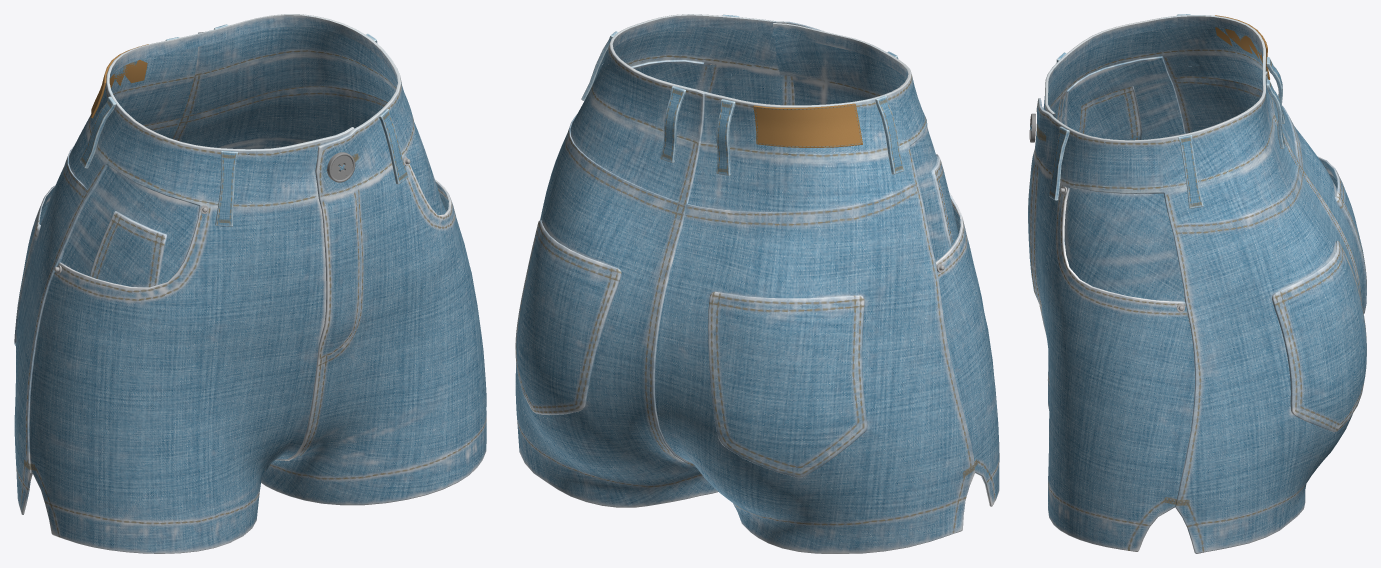
Rendered from female_short_jeans.glb.
3 renders of one model, left to right at view 1: azimuth 30°, elevation 25°; view 2: azimuth 150°, elevation 25°; view 3: azimuth 270°, elevation 25°, orthographic. The views are drawn at different scales.
Visible parts, largest first — view 1: Object_2; view 2: Object_2; view 3: Object_2.
Part boxes in pixels (<box>): Object_2: <box>14,14,486,553</box>; Object_2: <box>515,14,999,553</box>; Object_2: <box>1028,14,1366,553</box>.
Size of the model in its own units: 32.55 by 30.31 by 23.13.
1 material, 1 textured.
